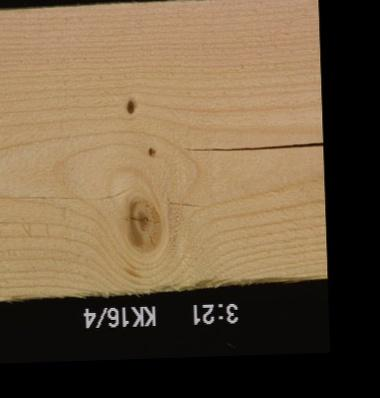small_knot: (124, 96, 135, 114), (146, 144, 157, 158)
sound_knot: (126, 196, 163, 251)
split: (181, 140, 322, 151)
wave: (145, 265, 326, 290)
